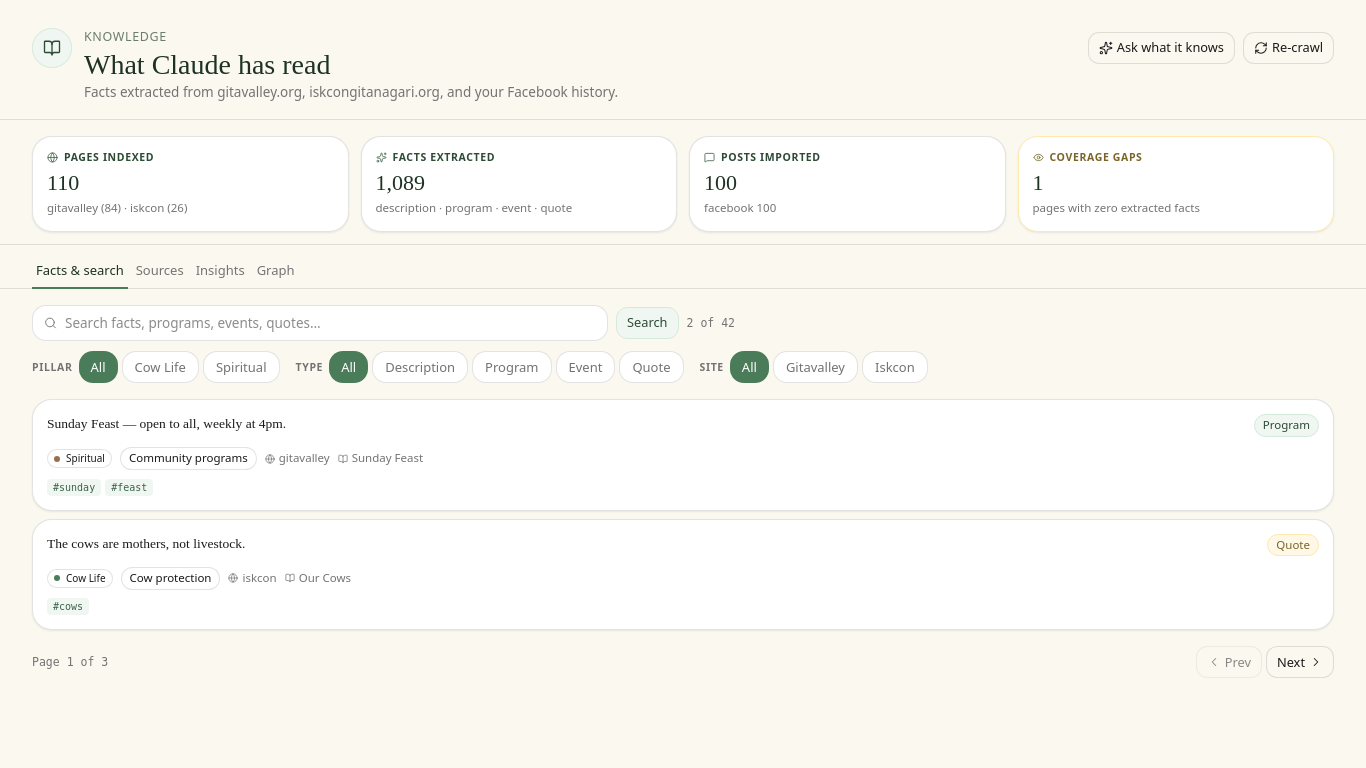
Test case: KnowledgePage › renders insights breakdowns and coverage gaps from stats
Click the tab "Insights" at [220, 271], box [192, 253, 249, 289]
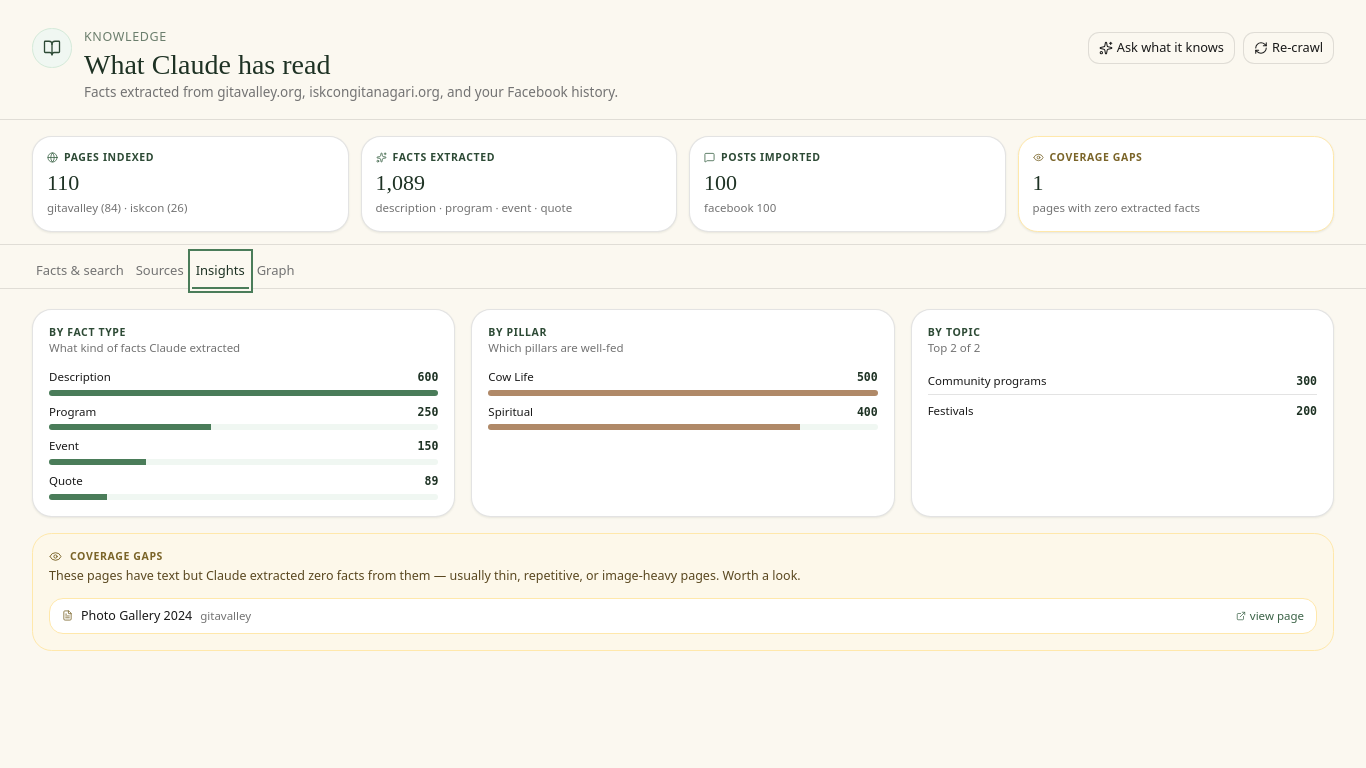
Check: the text "By fact type" is shown, box [49, 325, 126, 339]
Check: the text "By pillar" is shown, box [488, 325, 547, 339]
Check: the text "By topic" is shown, box [928, 325, 981, 339]
